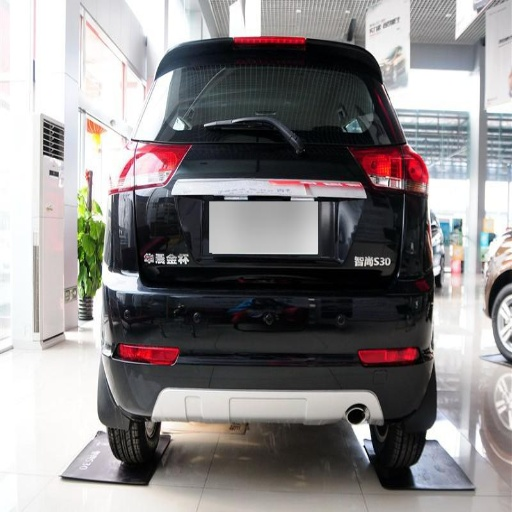back_bumper: (100, 285, 433, 421)
tailgate: (245, 207, 397, 292), (113, 238, 159, 284)
trunk: (112, 144, 399, 359)
